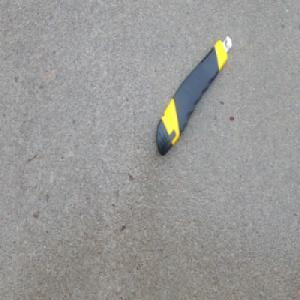Cutter: (153, 33, 232, 156)
